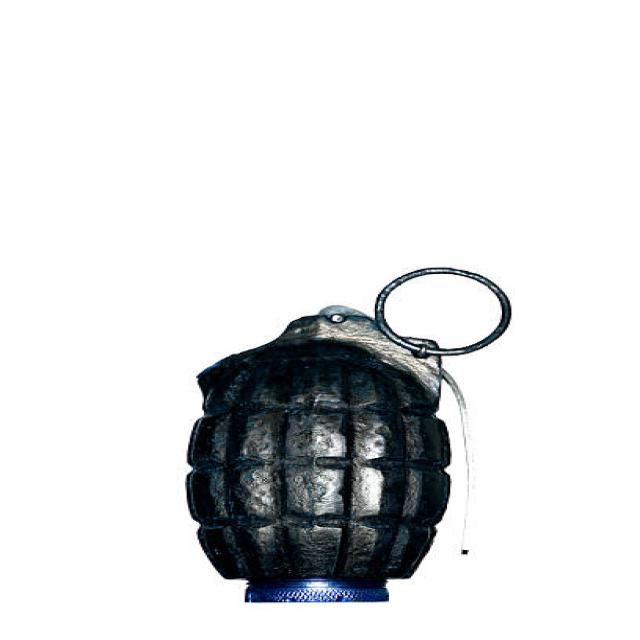grenade: (160, 263, 535, 617)
